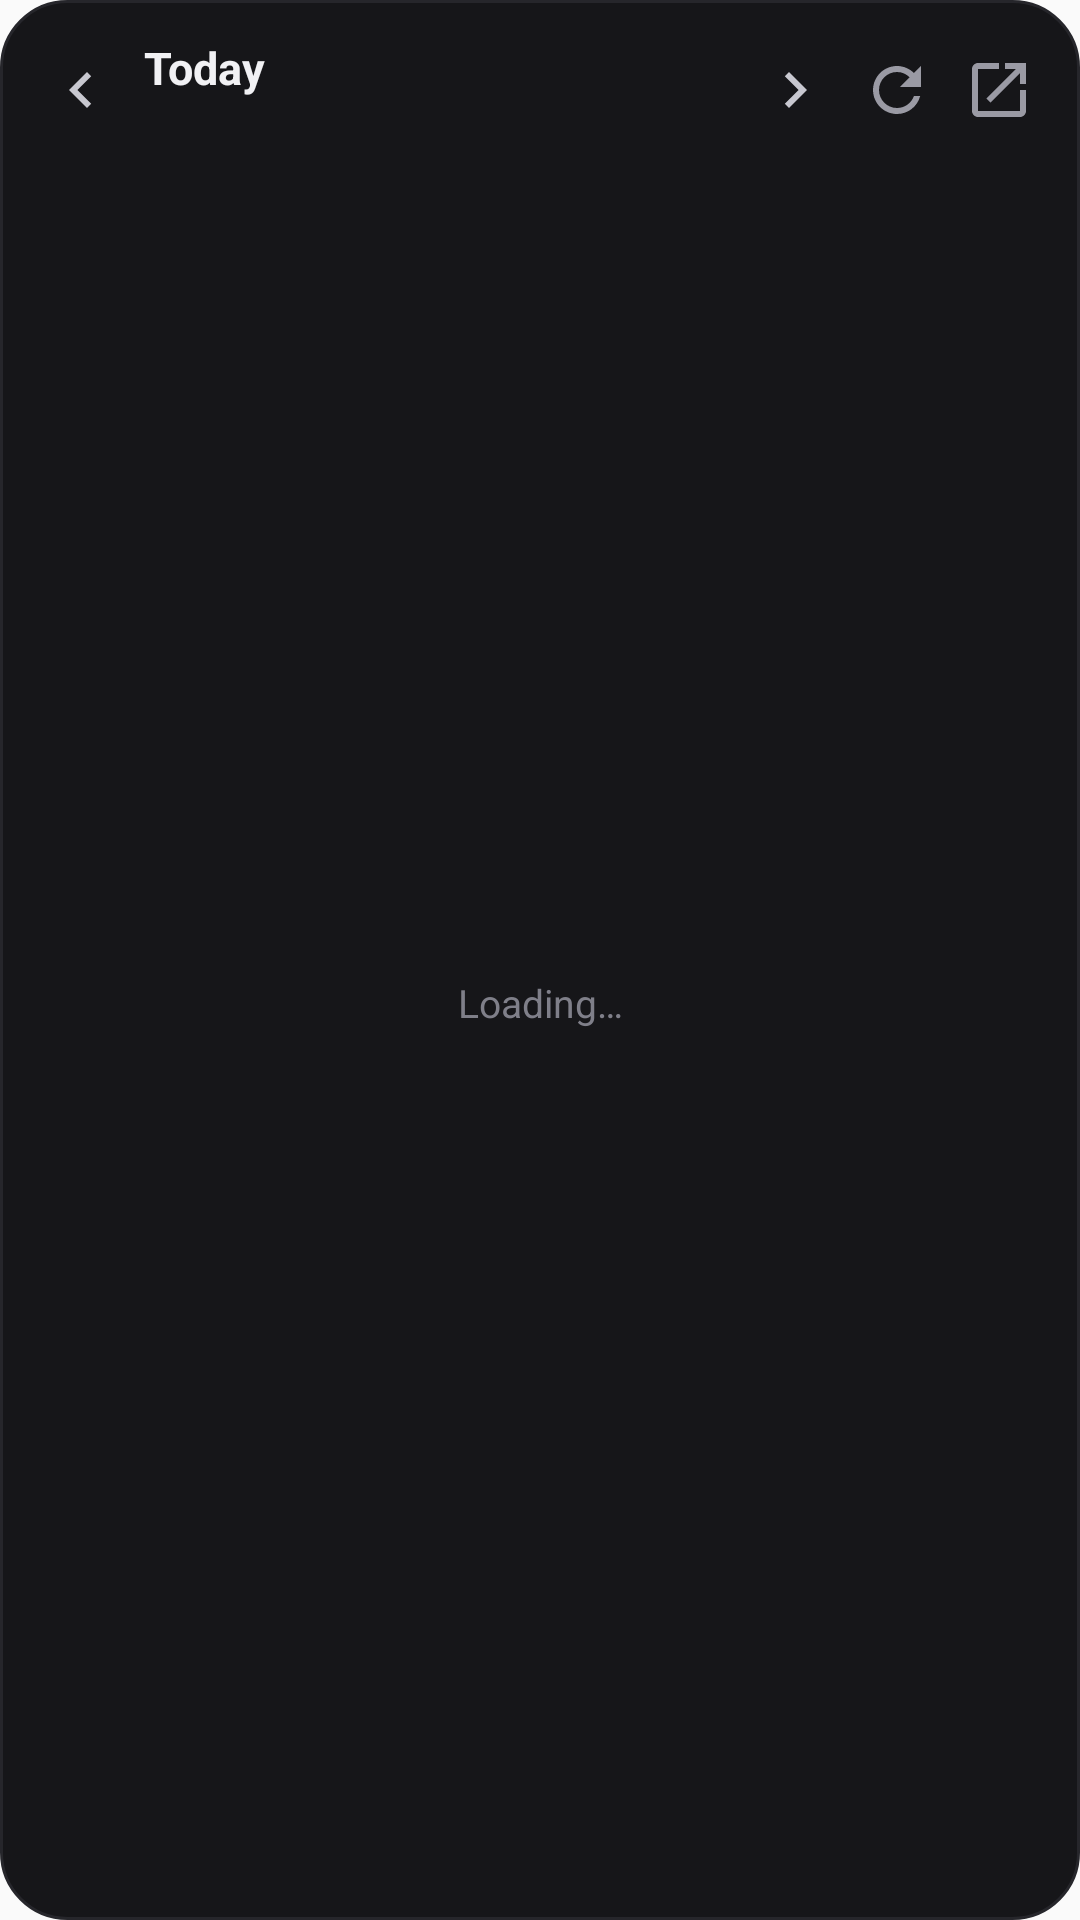

Where icons sit on this 1080×1920 app screen, as (x1, y1, x2, y2):
Next: (785, 72, 807, 108)
Open Onyx: (972, 63, 1026, 117)
Previous: (69, 72, 91, 108)
Refresh: (873, 66, 921, 114)
